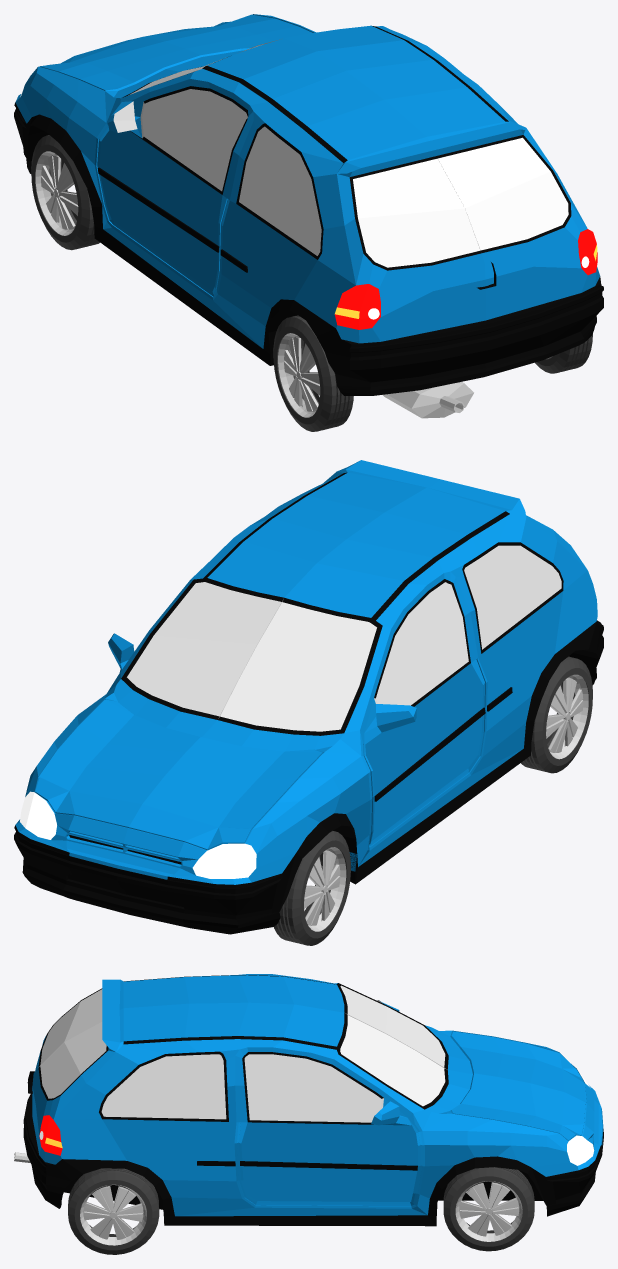
3 renders of one model, top to bottom at view 1: azimuth 30°, elevation 25°; view 2: azimuth 150°, elevation 25°; view 3: azimuth 270°, elevation 25°, orthographic. The views are drawn at different scales.
Visible parts, largest first — view 1: Car, Car Tires, Circle; view 2: Car, Car Tires; view 3: Car, Car Tires.
Boxes of the visible parts, x1,y1,x2,y2 form: Car: (14,14,603,395); Car Tires: (31,135,592,431); Circle: (382,381,473,418); Car: (14,460,603,934); Car Tires: (274,656,592,945); Car: (23,974,603,1226); Car Tires: (68,1167,534,1254).
Bounding box in the file's own units: 1.56 × 1.28 × 3.37.
